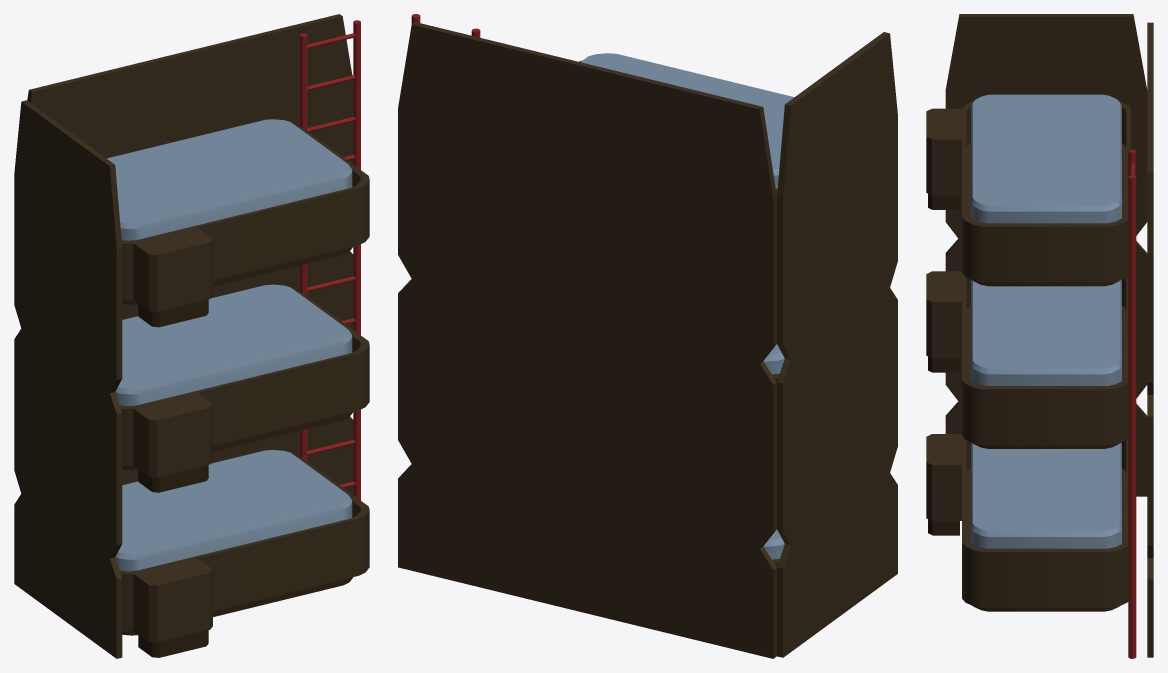
The model's file is mdlBedBunk.fbx.
The picture shows the model from 3 angles, left to right: view 1: azimuth 30°, elevation 25°; view 2: azimuth 150°, elevation 25°; view 3: azimuth 270°, elevation 25°; orthographic projection. The views are drawn at different scales.
Visible parts, largest first — view 1: BedMesh; view 2: BedMesh; view 3: BedMesh.
Part boxes in pixels (x1,y1,x2,y2): BedMesh: [14, 14, 369, 658]; BedMesh: [398, 14, 897, 658]; BedMesh: [926, 14, 1153, 658].
Bounding box in the file's own units: 8.5 × 11.69 × 4.99.
1 material, 1 textured.
